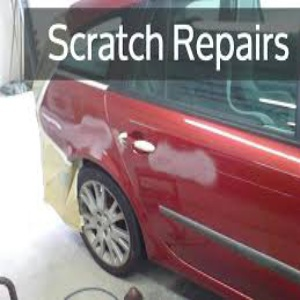door_scratch: (152, 136, 293, 275)
